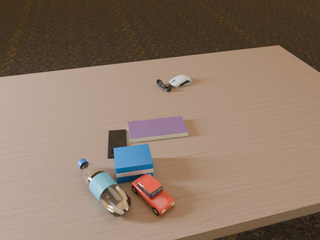book: (128, 116, 188, 143)
bottle: (77, 159, 131, 217)
box: (113, 144, 153, 183)
mouse: (169, 75, 191, 87)
phone: (108, 130, 127, 158)
toy_car: (132, 174, 174, 215)
